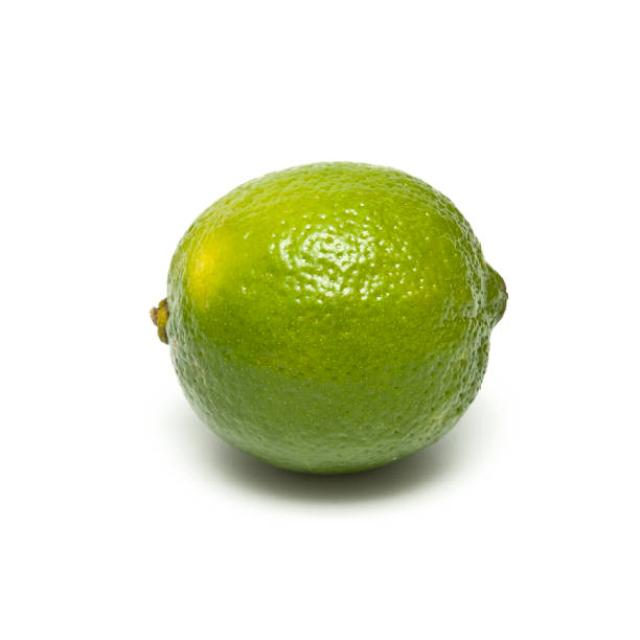Unripe: (169, 158, 510, 476)
